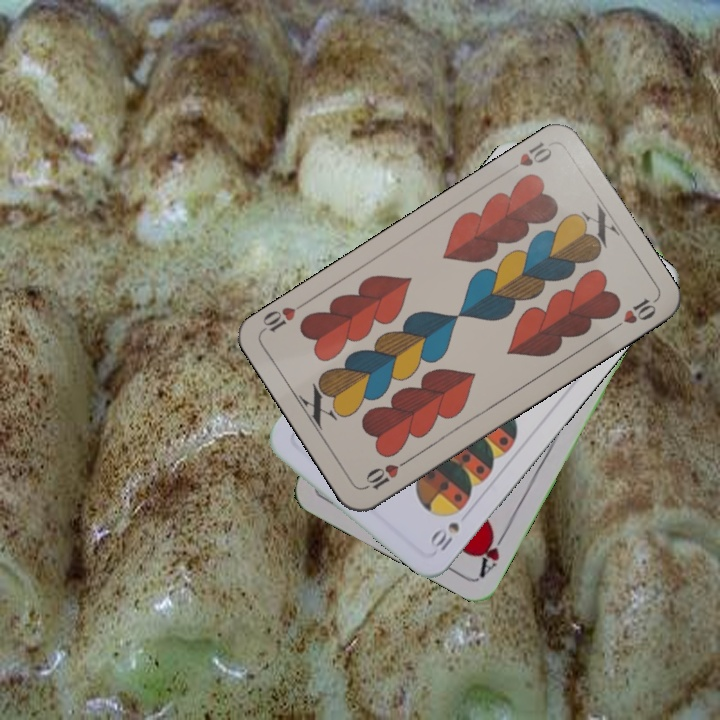H10: (502, 138, 555, 176), (361, 454, 413, 492)
HA: (475, 524, 511, 579)
S10: (425, 518, 463, 554)
